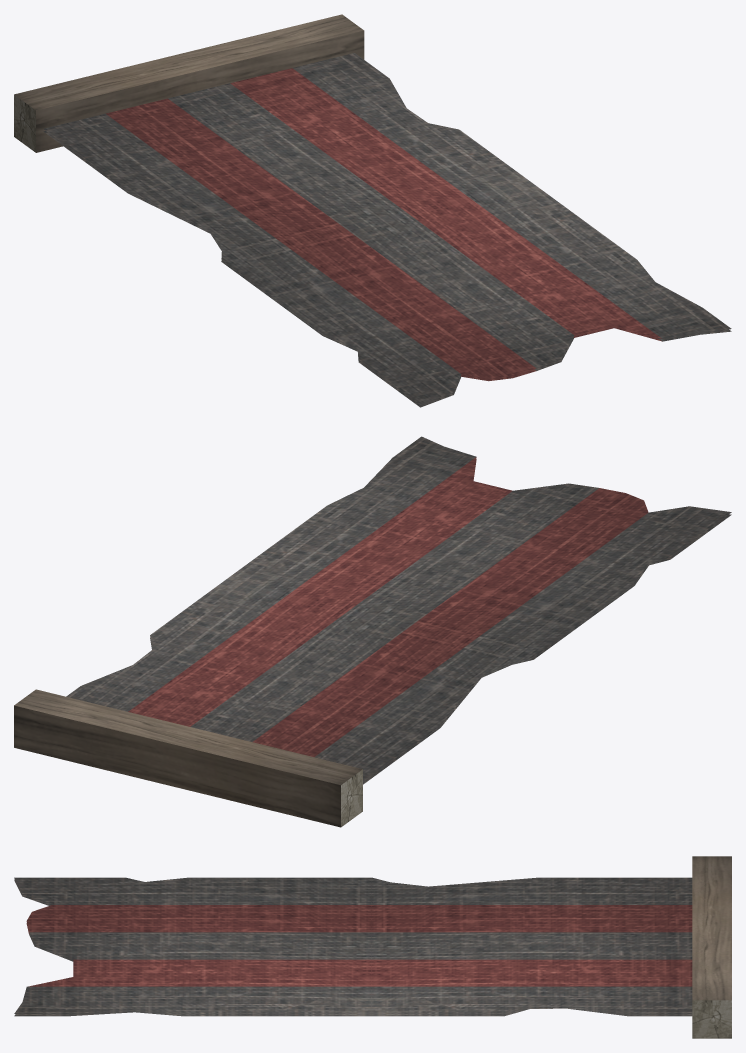
File: Pirate_Banner_Stripes_B.fbx
3 views of the same model, one above another, from view 1: azimuth 30°, elevation 25°; view 2: azimuth 150°, elevation 25°; view 3: azimuth 270°, elevation 25° (orthographic). The views are drawn at different scales.
Visible parts, largest first — view 1: Pirate_Banner_Stripes_B; view 2: Pirate_Banner_Stripes_B; view 3: Pirate_Banner_Stripes_B.
Part boxes in pixels (left/top/right/bottom): Pirate_Banner_Stripes_B: left=14, top=14, right=731, bottom=407; Pirate_Banner_Stripes_B: left=14, top=436, right=731, bottom=827; Pirate_Banner_Stripes_B: left=14, top=856, right=731, bottom=1038.
Bounding box in the file's own units: 1.2 × 0.1485 × 2.54.
